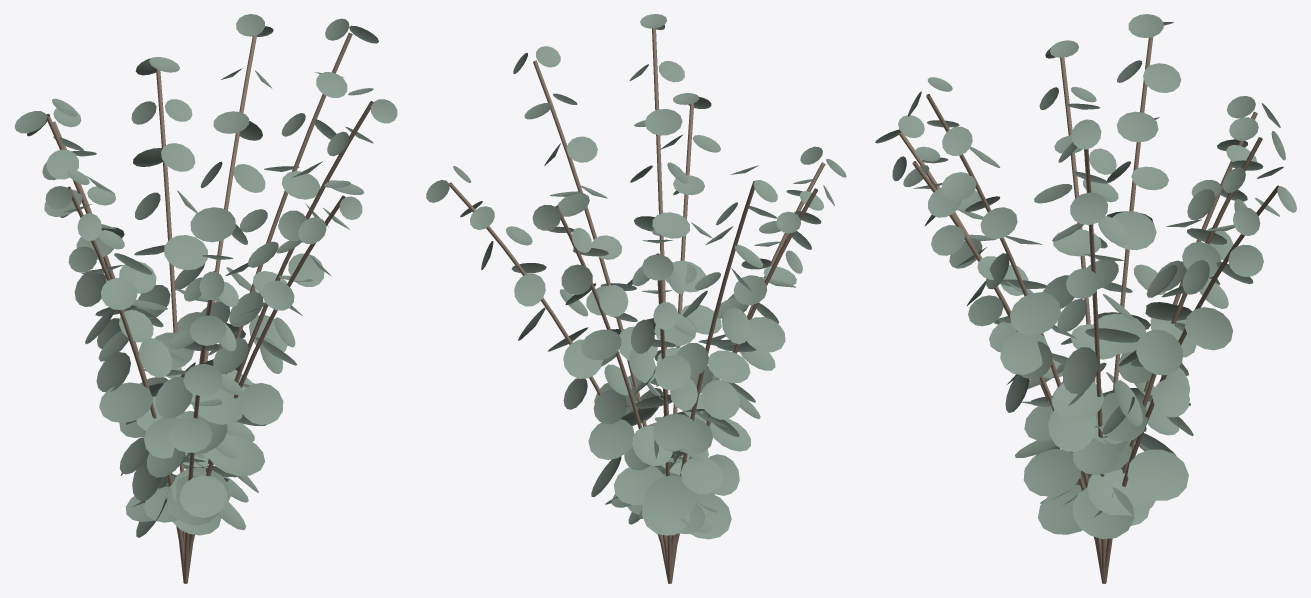
File: eucalyptus.glb
The picture shows the model from 3 angles, left to right: view 1: azimuth 30°, elevation 25°; view 2: azimuth 150°, elevation 25°; view 3: azimuth 270°, elevation 25°; orthographic projection. The views are drawn at different scales.
Visible parts, largest first — view 1: eucalyptus-leaves, eucalyptus-stems; view 2: eucalyptus-leaves, eucalyptus-stems; view 3: eucalyptus-leaves, eucalyptus-stems.
Part boxes in pixels (x1,y1,x2,y2): eucalyptus-leaves: [14, 14, 397, 537]; eucalyptus-stems: [46, 32, 373, 583]; eucalyptus-leaves: [426, 14, 846, 539]; eucalyptus-stems: [449, 28, 825, 583]; eucalyptus-leaves: [875, 14, 1296, 539]; eucalyptus-stems: [899, 37, 1279, 583].
Bounding box in the file's own units: 0.3941 × 0.5953 × 0.4095.
